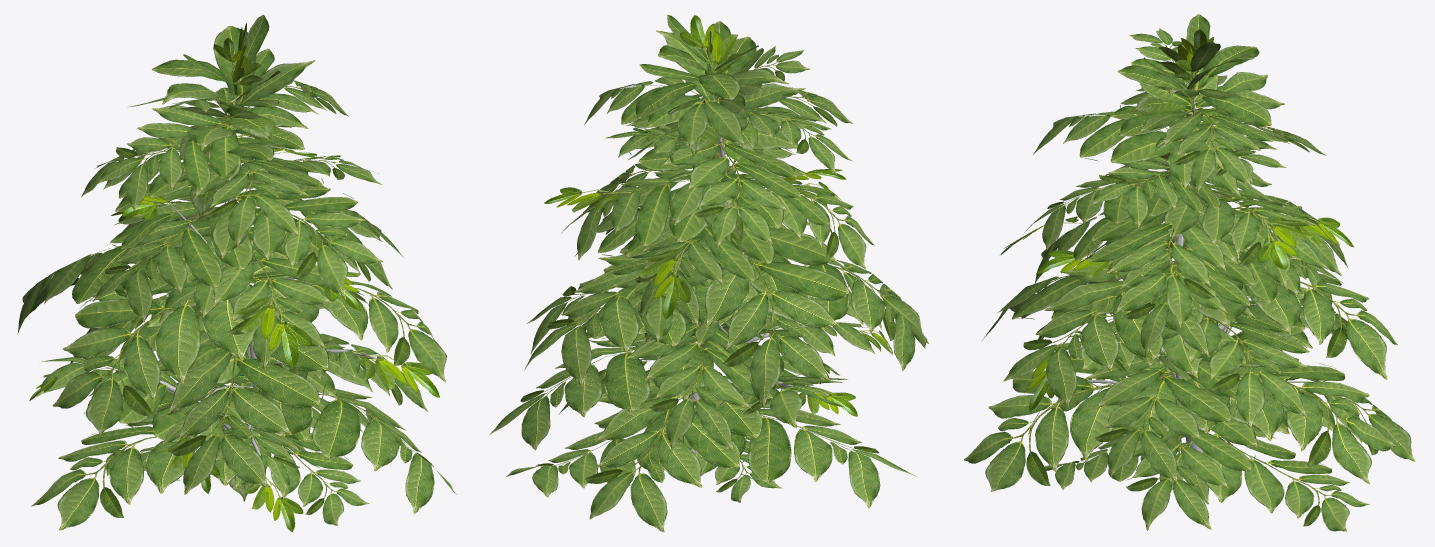
The model's file is Bush_03.fbx.
3 views of the same model, side by side, from view 1: azimuth 30°, elevation 25°; view 2: azimuth 150°, elevation 25°; view 3: azimuth 270°, elevation 25° (orthographic). The views are drawn at different scales.
Parts seen in each view (by area): view 1: Bush_02; view 2: Bush_02; view 3: Bush_02.
Part boxes in pixels (<box>): Bush_02: <box>17,15,456,532</box>; Bush_02: <box>489,15,929,532</box>; Bush_02: <box>964,14,1415,531</box>.
Size of the model in its own units: 131 by 160 by 147.
